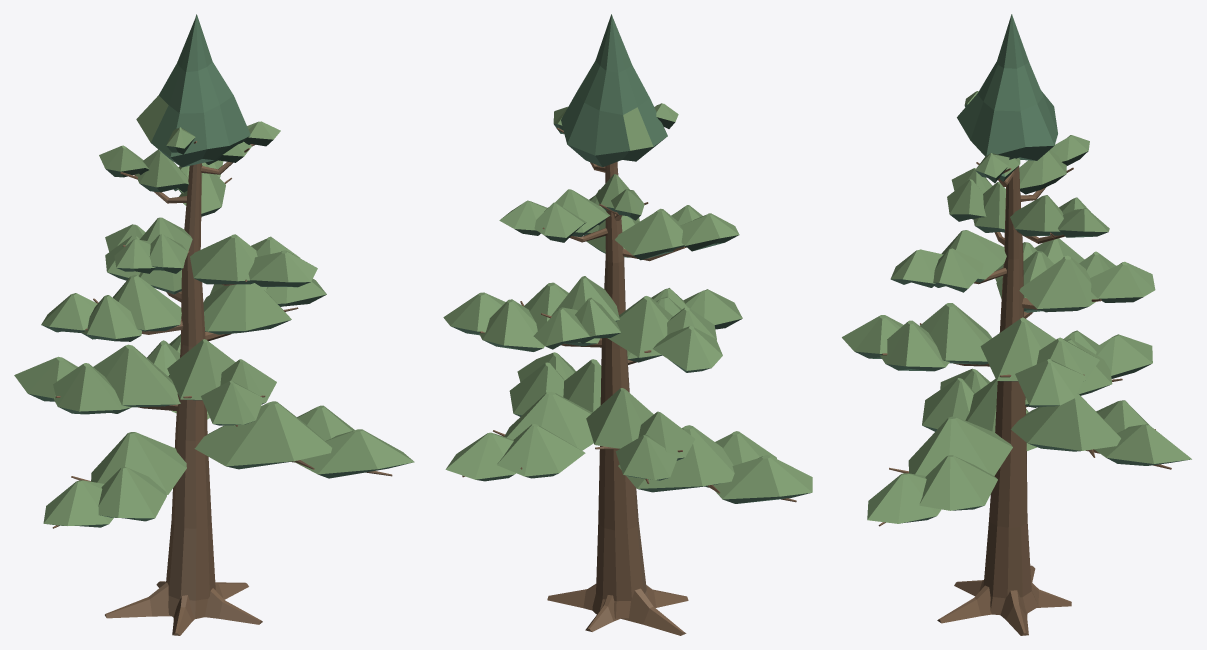
The picture shows the model from 3 angles, left to right: view 1: azimuth 30°, elevation 25°; view 2: azimuth 150°, elevation 25°; view 3: azimuth 270°, elevation 25°; orthographic projection.
Visible parts, largest first — view 1: Trunk_MatureCentralLeader, Needles_TerminalLeader, NeedleFan_L02_Inner, NeedleFan_M02_Inner, NeedleFan_L04_Inner, NeedleFan_L02_Outer, NeedleFan_L01_Inner, NeedleFan_L01_Fork, NeedleFan_L04_Fork, NeedleFan_U01_Inner, NeedleFan_M01_Inner, NeedleFan_M03_Inner (+21 smaller); view 2: Trunk_MatureCentralLeader, Needles_TerminalLeader, NeedleFan_L01_Outer, NeedleFan_L01_Inner, NeedleFan_L03_Fork, NeedleFan_L03_Inner, NeedleFan_L04_Inner, NeedleFan_M03_Inner, NeedleFan_U02_Inner, NeedleFan_M02_Fork, NeedleFan_M03_Outer, NeedleFan_L03_Outer (+23 smaller); view 3: Trunk_MatureCentralLeader, Needles_TerminalLeader, NeedleFan_L03_Inner, NeedleFan_L02_Inner, NeedleFan_L02_Fork, NeedleFan_M04_Inner, NeedleFan_M01_Inner, NeedleFan_M02_Inner, NeedleFan_L02_Outer, NeedleFan_L03_Outer, NeedleFan_M02_Outer, NeedleFan_M01_Fork (+25 smaller).
Part boxes in pixels (box(x1,y1,x2,y2)): Trunk_MatureCentralLeader: box(166, 163, 215, 618); Needles_TerminalLeader: box(136, 14, 250, 167); NeedleFan_L02_Inner: box(194, 401, 331, 469); NeedleFan_M02_Inner: box(203, 283, 291, 334); NeedleFan_L04_Inner: box(93, 344, 180, 407); NeedleFan_L02_Outer: box(293, 429, 414, 478); NeedleFan_L01_Inner: box(91, 432, 186, 494); NeedleFan_L01_Fork: box(98, 467, 166, 521); NeedleFan_L04_Fork: box(53, 363, 131, 414); NeedleFan_U01_Inner: box(190, 234, 257, 284); NeedleFan_M01_Inner: box(167, 339, 235, 400); NeedleFan_M03_Inner: box(113, 275, 181, 331); Trunk_MatureCentralLeader: box(592, 162, 649, 618); Needles_TerminalLeader: box(561, 14, 667, 167); NeedleFan_L01_Outer: box(713, 455, 812, 503); NeedleFan_L01_Inner: box(618, 425, 734, 492); NeedleFan_L03_Fork: box(497, 424, 585, 478); NeedleFan_L03_Inner: box(504, 392, 593, 450); NeedleFan_L04_Inner: box(586, 388, 653, 448); NeedleFan_M03_Inner: box(607, 296, 672, 358); NeedleFan_U02_Inner: box(615, 208, 685, 260); NeedleFan_M02_Fork: box(479, 299, 544, 351); NeedleFan_M03_Outer: box(653, 326, 722, 372); NeedleFan_L03_Outer: box(445, 432, 516, 481); Trunk_MatureCentralLeader: box(983, 165, 1038, 614); Needles_TerminalLeader: box(957, 14, 1057, 160); NeedleFan_L03_Inner: box(1011, 393, 1120, 451); NeedleFan_L02_Inner: box(908, 416, 1012, 475); NeedleFan_L02_Fork: box(919, 455, 997, 510); NeedleFan_M04_Inner: box(1019, 255, 1098, 312); NeedleFan_M01_Inner: box(920, 303, 991, 364); NeedleFan_M02_Inner: box(980, 317, 1055, 381); NeedleFan_L02_Outer: box(867, 473, 941, 523); NeedleFan_L03_Outer: box(1094, 424, 1191, 465); NeedleFan_M02_Outer: box(1015, 359, 1085, 406); NeedleFan_M01_Fork: box(880, 320, 949, 371).
Bounding box in the file's own units: 5.01 × 8.64 × 4.63.
